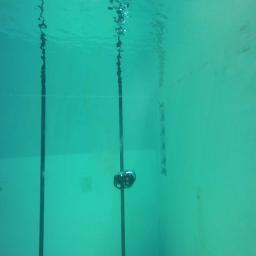Side: (113, 168, 136, 190)
